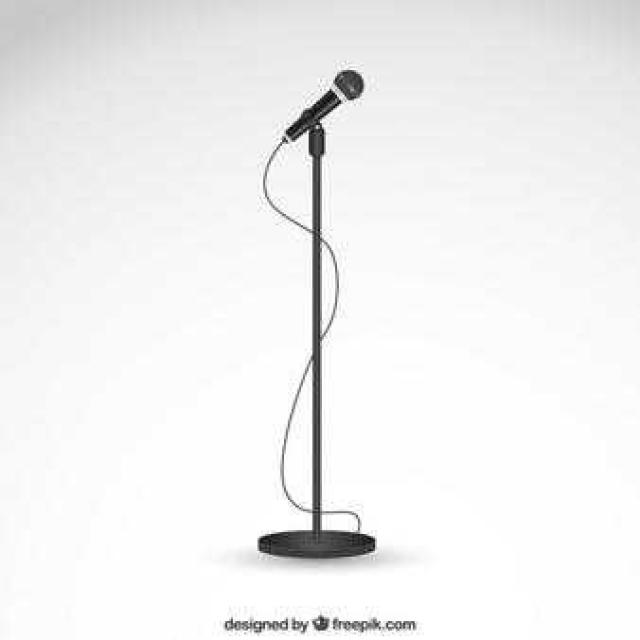microphone: (283, 70, 367, 146)
